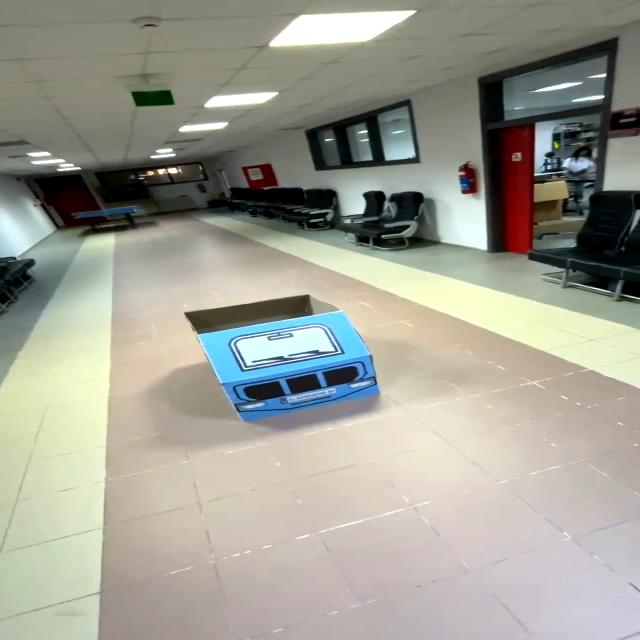blue_car: (155, 271, 414, 467)
